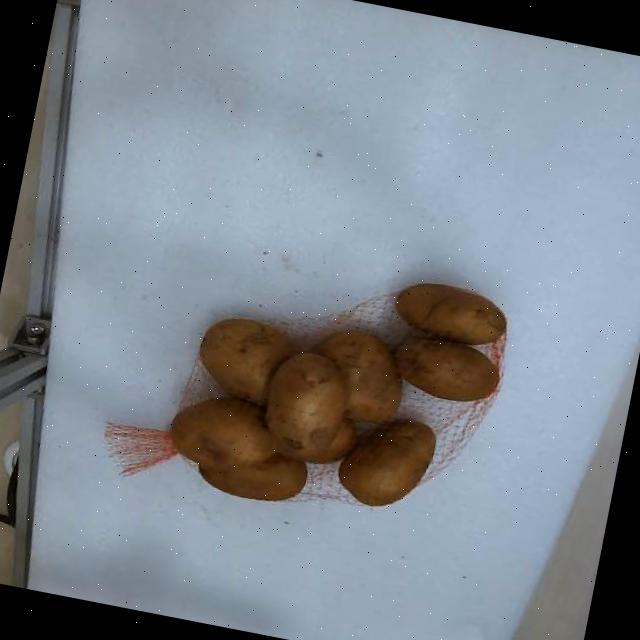potato: (265, 354, 347, 460), (200, 318, 297, 405), (338, 420, 435, 506), (318, 331, 402, 424), (171, 398, 276, 466), (396, 283, 506, 345), (395, 337, 498, 401), (198, 453, 306, 501)
